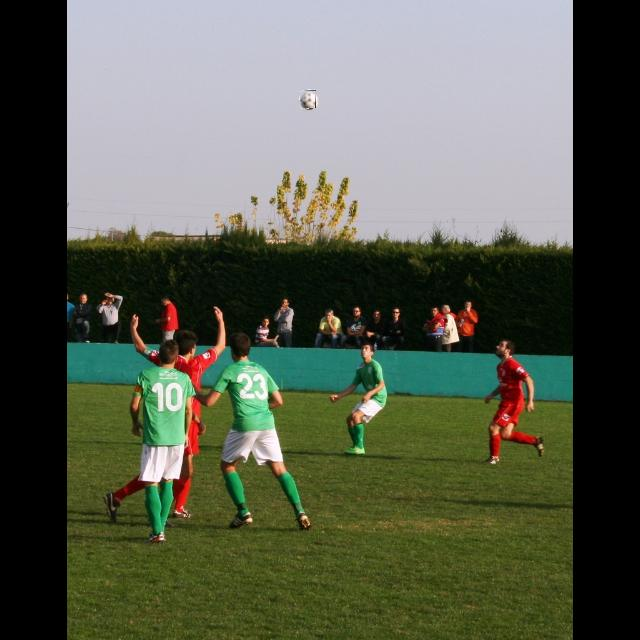Football: (300, 90, 316, 108)
